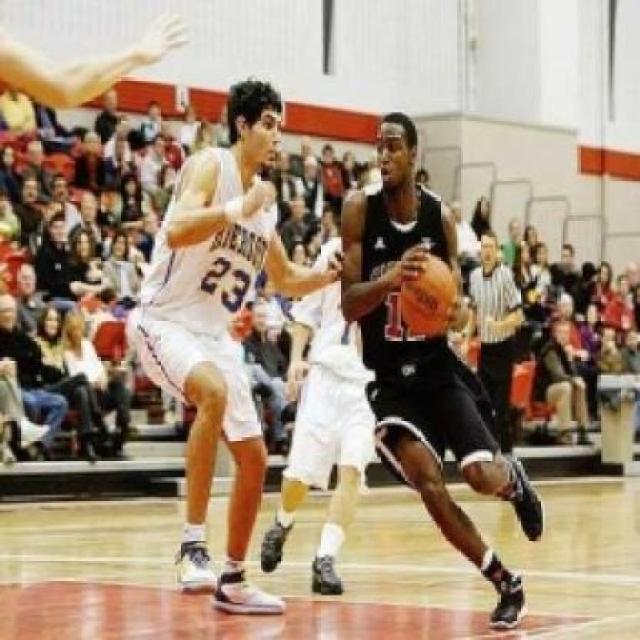ball: (392, 248, 465, 334)
person: (128, 77, 342, 618), (337, 107, 548, 631)
